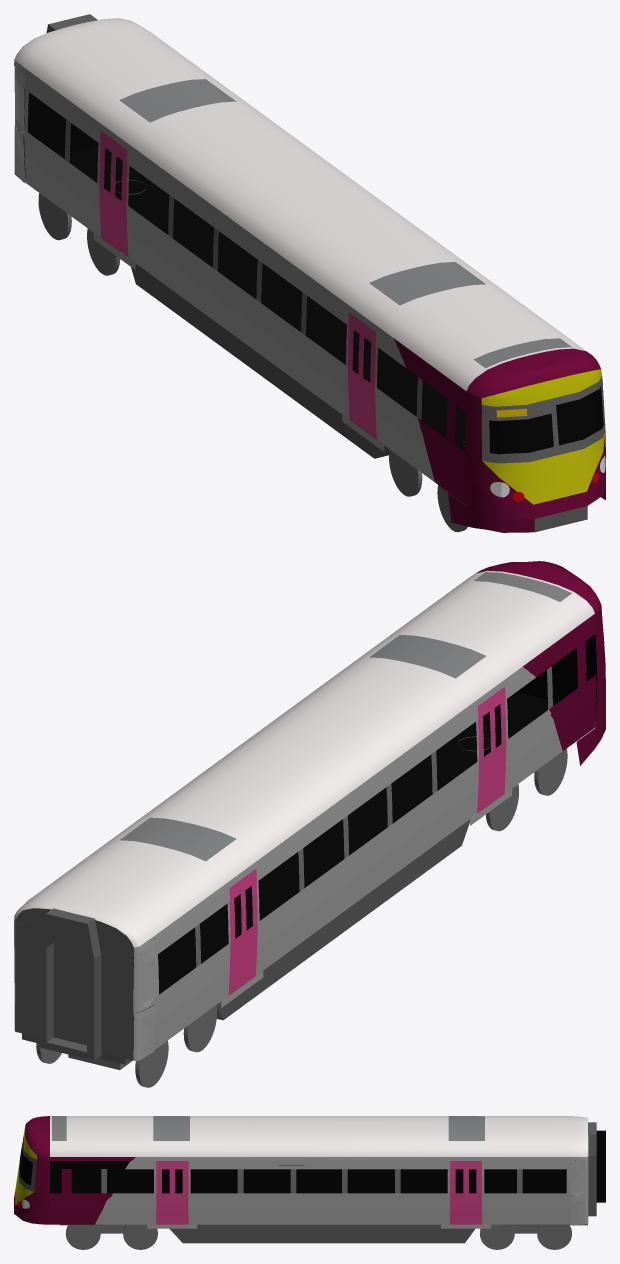
Rendered from br-170-abellio-end.dae.
3 renders of one model, top to bottom at view 1: azimuth 30°, elevation 25°; view 2: azimuth 150°, elevation 25°; view 3: azimuth 270°, elevation 25°, orthographic. The views are drawn at different scales.
Parts seen in each view (by area): view 1: Suzanne_007, Plane_441, Plane_440, Plane_420, Suzanne_010, Cube_032, Suzanne_005, Suzanne_000, Suzanne_004, Plane_434, Plane_433, Plane_422 (+13 smaller); view 2: Suzanne_007, Plane_441, Plane_440, Plane_000, Plane_420, Tube_003, Cube_032, Suzanne_000, Plane_434, Plane_433, Plane_422, Suzanne_009 (+10 smaller); view 3: Suzanne_007, Plane_008, Plane_439, Plane_442, Cube_032, Suzanne_000, Plane_013, Plane_002, Plane_418, Suzanne_008, Suzanne_009, Tube_003 (+17 smaller).
Boxes of the visible parts, x1,y1,x2,y2 form: Suzanne_007: (14, 18, 600, 397); Plane_441: (24, 141, 466, 451); Plane_440: (24, 130, 466, 504); Plane_420: (24, 136, 464, 478); Suzanne_010: (481, 369, 605, 504); Cube_032: (131, 263, 389, 458); Suzanne_005: (489, 386, 603, 454); Suzanne_000: (25, 69, 466, 397); Suzanne_004: (481, 376, 605, 463); Plane_434: (24, 82, 465, 411); Plane_433: (99, 185, 376, 439); Plane_422: (25, 75, 466, 404); Suzanne_007: (14, 561, 601, 947); Plane_441: (133, 692, 595, 1030); Plane_440: (154, 675, 596, 1049); Plane_000: (15, 923, 133, 1060); Plane_420: (155, 681, 596, 1023); Tube_003: (39, 908, 101, 1060); Cube_032: (216, 819, 469, 1020); Suzanne_000: (154, 614, 595, 942); Plane_434: (154, 627, 595, 956); Plane_433: (228, 741, 506, 995); Plane_422: (154, 620, 595, 949); Suzanne_009: (119, 817, 236, 861); Suzanne_007: (25, 1116, 588, 1156); Plane_008: (50, 1130, 605, 1202); Plane_439: (50, 1193, 570, 1224); Plane_442: (50, 1197, 570, 1209); Cube_032: (169, 1224, 474, 1243); Suzanne_000: (50, 1157, 570, 1160); Plane_013: (156, 1193, 481, 1224); Plane_002: (125, 1165, 570, 1169); Plane_418: (128, 1161, 570, 1165); Suzanne_008: (153, 1116, 189, 1140); Suzanne_009: (448, 1116, 484, 1140); Tube_003: (588, 1122, 596, 1216).
Size of the model in its own units: 2.06 by 13.44 by 2.72.
